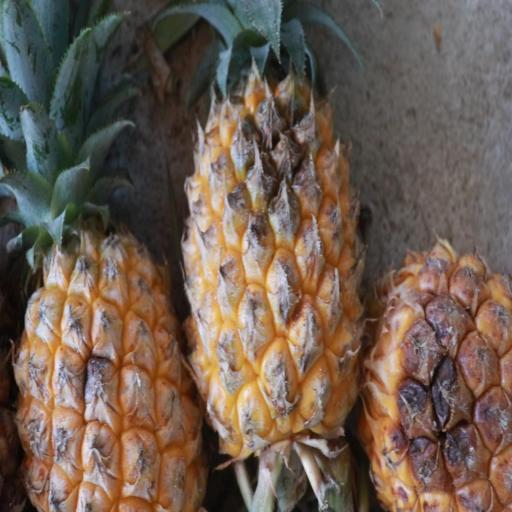Pineapple - v8 v1: (12, 0, 208, 512), (178, 15, 368, 467), (359, 235, 512, 512)
